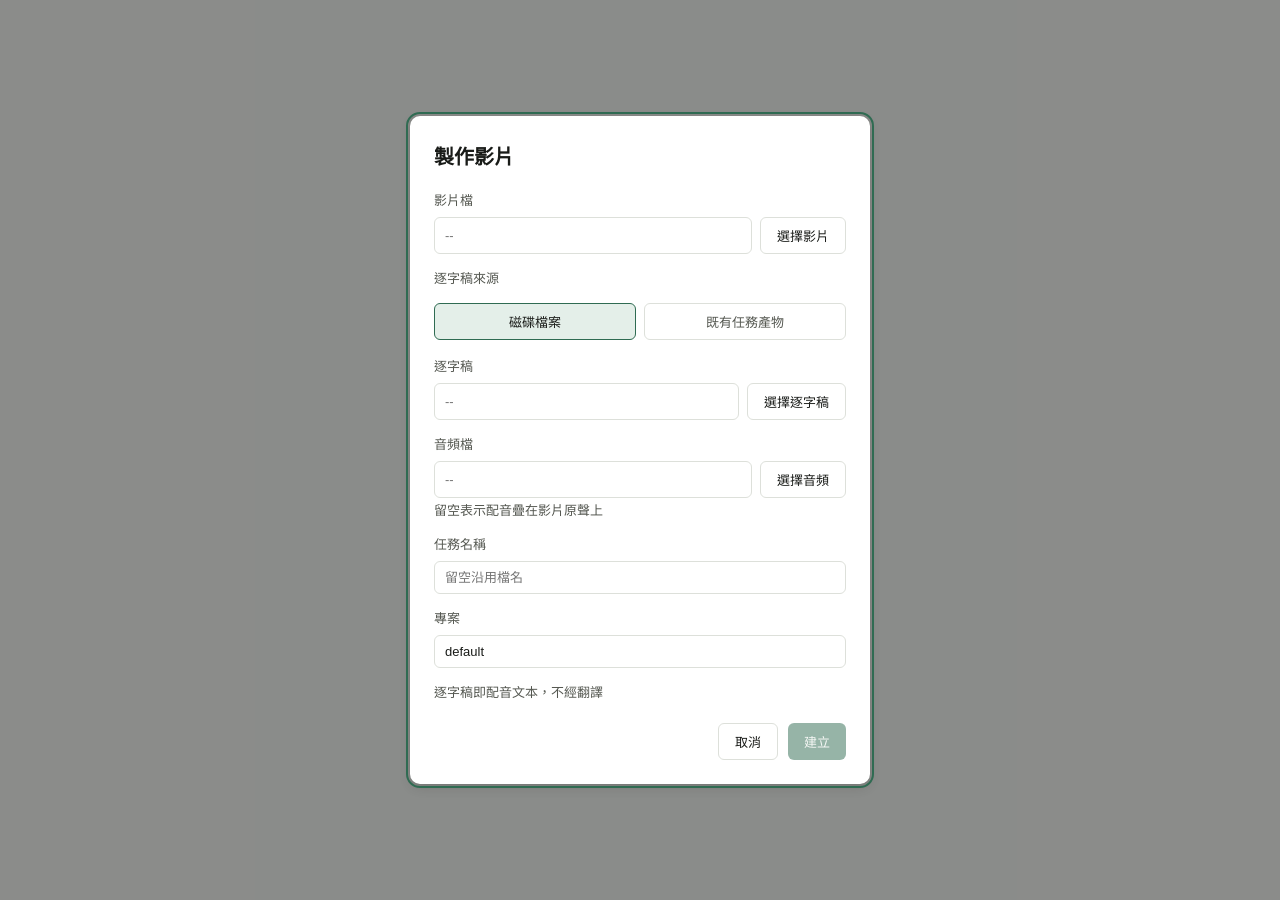
Test: video compose cannot be submitted without a video file
This screenshot has width=1280, height=900.
Expected: the heading "製作影片" is shown, x1=434 y1=141 x2=514 y2=170
Click the button "選擇逐字稿". click: (796, 401)
box: x1=747 y1=383 x2=846 y2=420
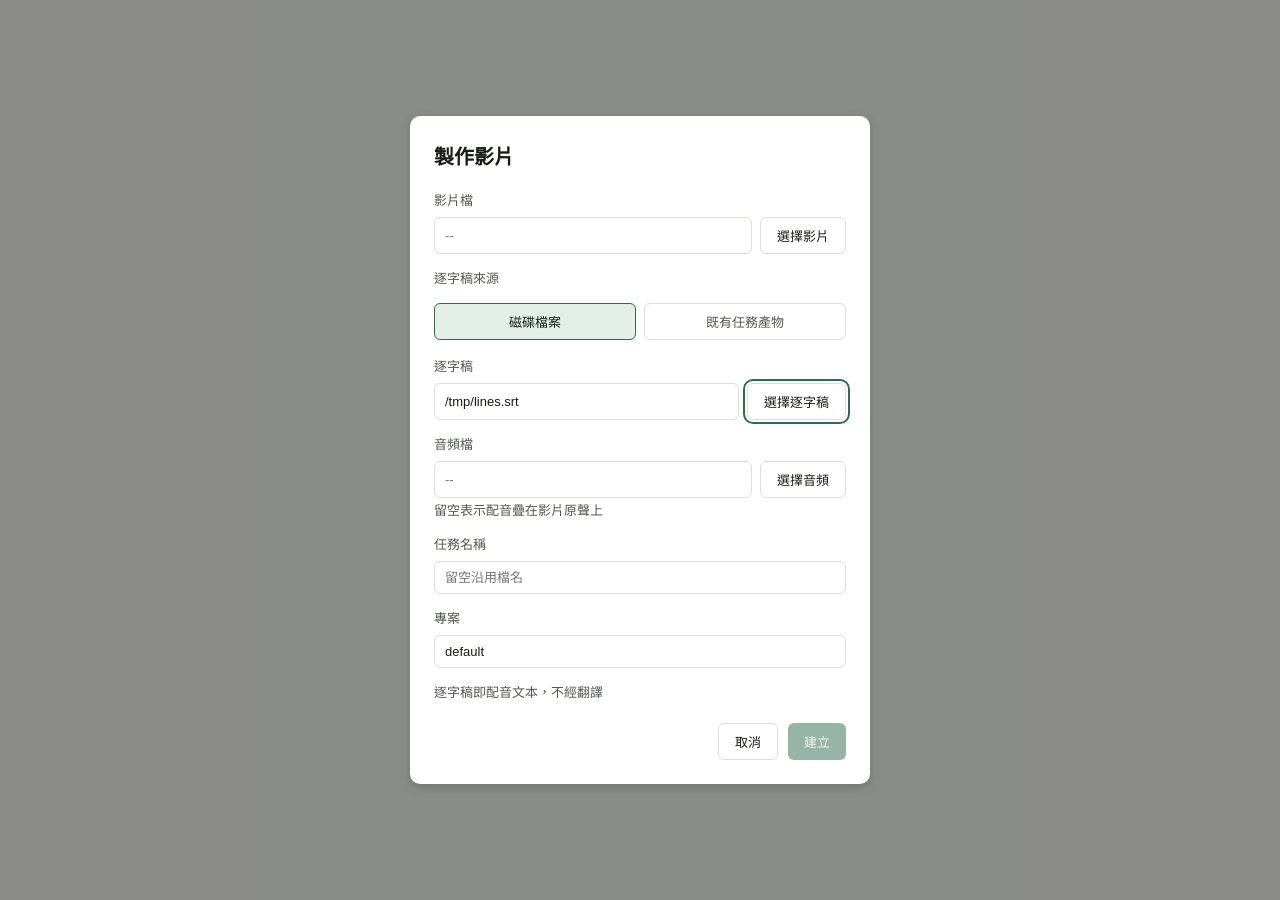
Expected: the button "建立" is disabled, x1=788 y1=723 x2=846 y2=760
Expected: the field showing "/tmp/lines.srt" is shown, x1=434 y1=383 x2=739 y2=420
